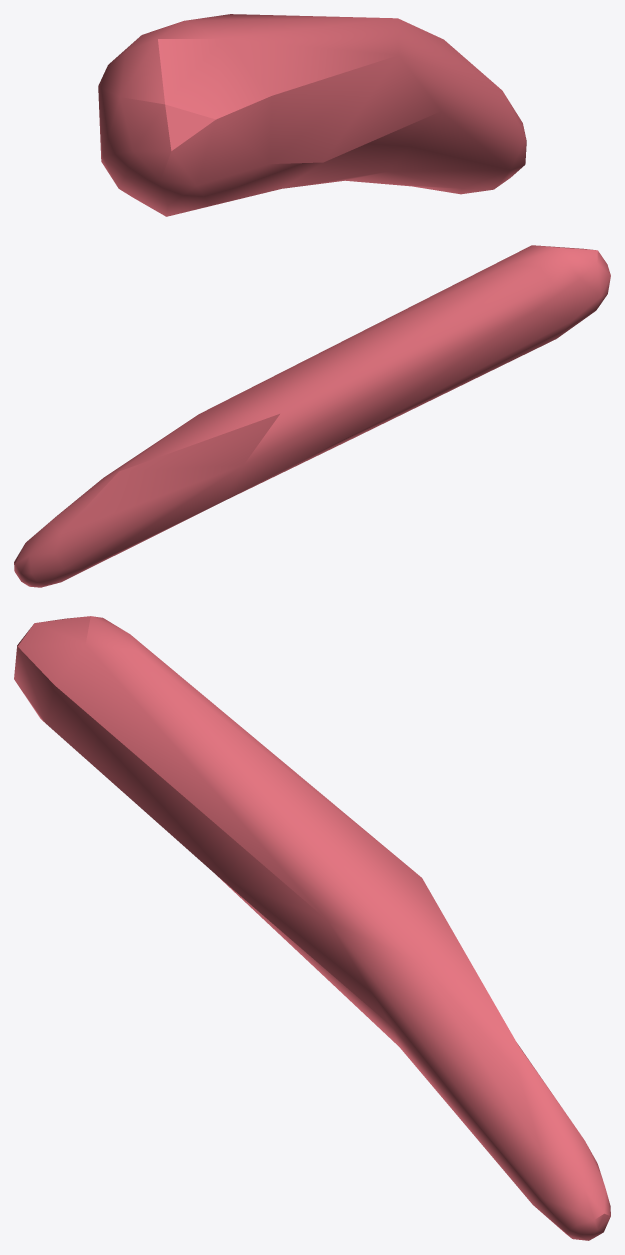
Rendered from fma68133_fj5971.glb.
The picture shows the model from 3 angles, top to bottom: view 1: azimuth 30°, elevation 25°; view 2: azimuth 150°, elevation 25°; view 3: azimuth 270°, elevation 25°; orthographic projection. The views are drawn at different scales.
Parts seen in each view (by area): view 1: FMA68133_FJ5971; view 2: FMA68133_FJ5971; view 3: FMA68133_FJ5971.
Part boxes in pixels (x1=…): FMA68133_FJ5971: x1=98, y1=14, x2=526, y2=216; FMA68133_FJ5971: x1=14, y1=245, x2=610, y2=587; FMA68133_FJ5971: x1=14, y1=616, x2=610, y2=1240.
Bounding box in the file's own units: 0.0102 × 0.00709 × 0.00973.
